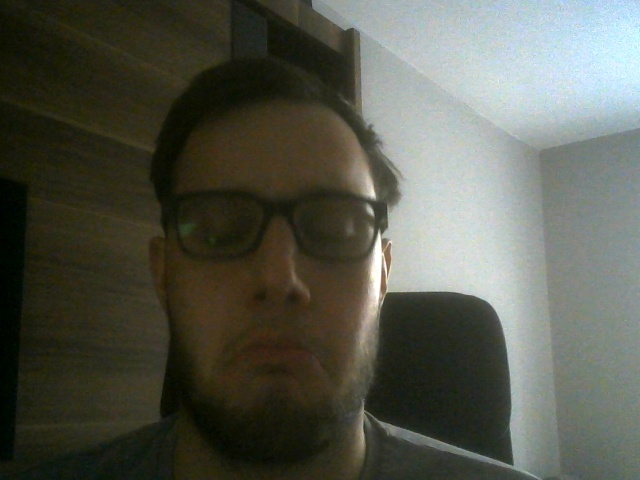neutral: (142, 62, 396, 456)
